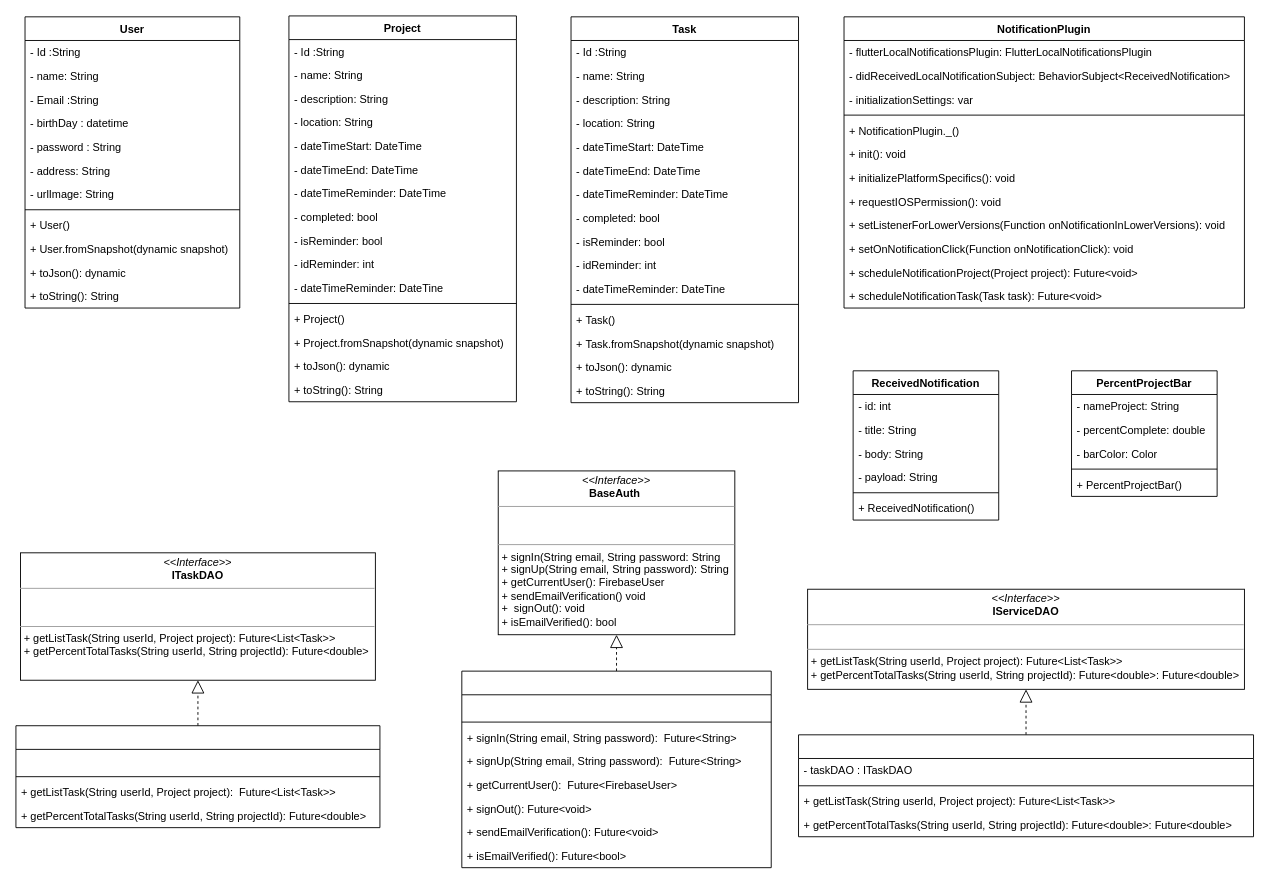
The diagram is 1269 pixels wide and 886 high, and some of its shapes have lost their labels. Here are the shapes that lost their labels. From the top down, the box of each, then its label:
(15, 725, 380, 828): TaskDAOImpl
(461, 670, 771, 868): Auth
(798, 734, 1254, 837): ServiceDAOImpl
